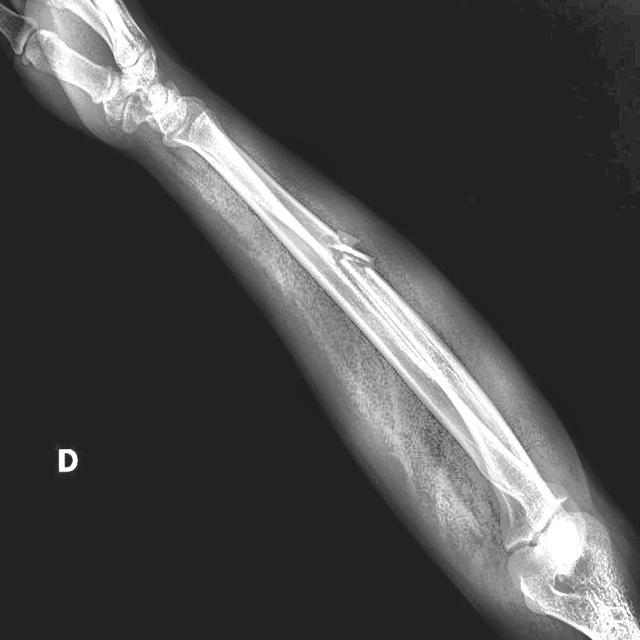messed_up_angle: (330, 228, 374, 272)
